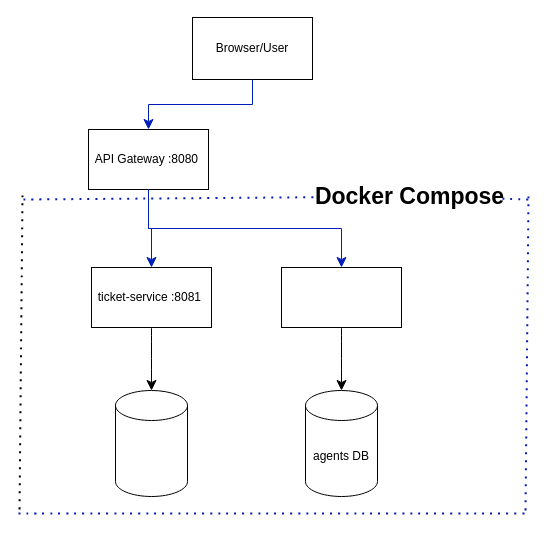
The diagram is 547 pixels wide and 533 high, and some of its shapes have lost their labels. Each missing label, with the centre of its shape:
"agent-service :8082" belongs at (x=341, y=297).
"tickets DB" belongs at (x=151, y=443).
